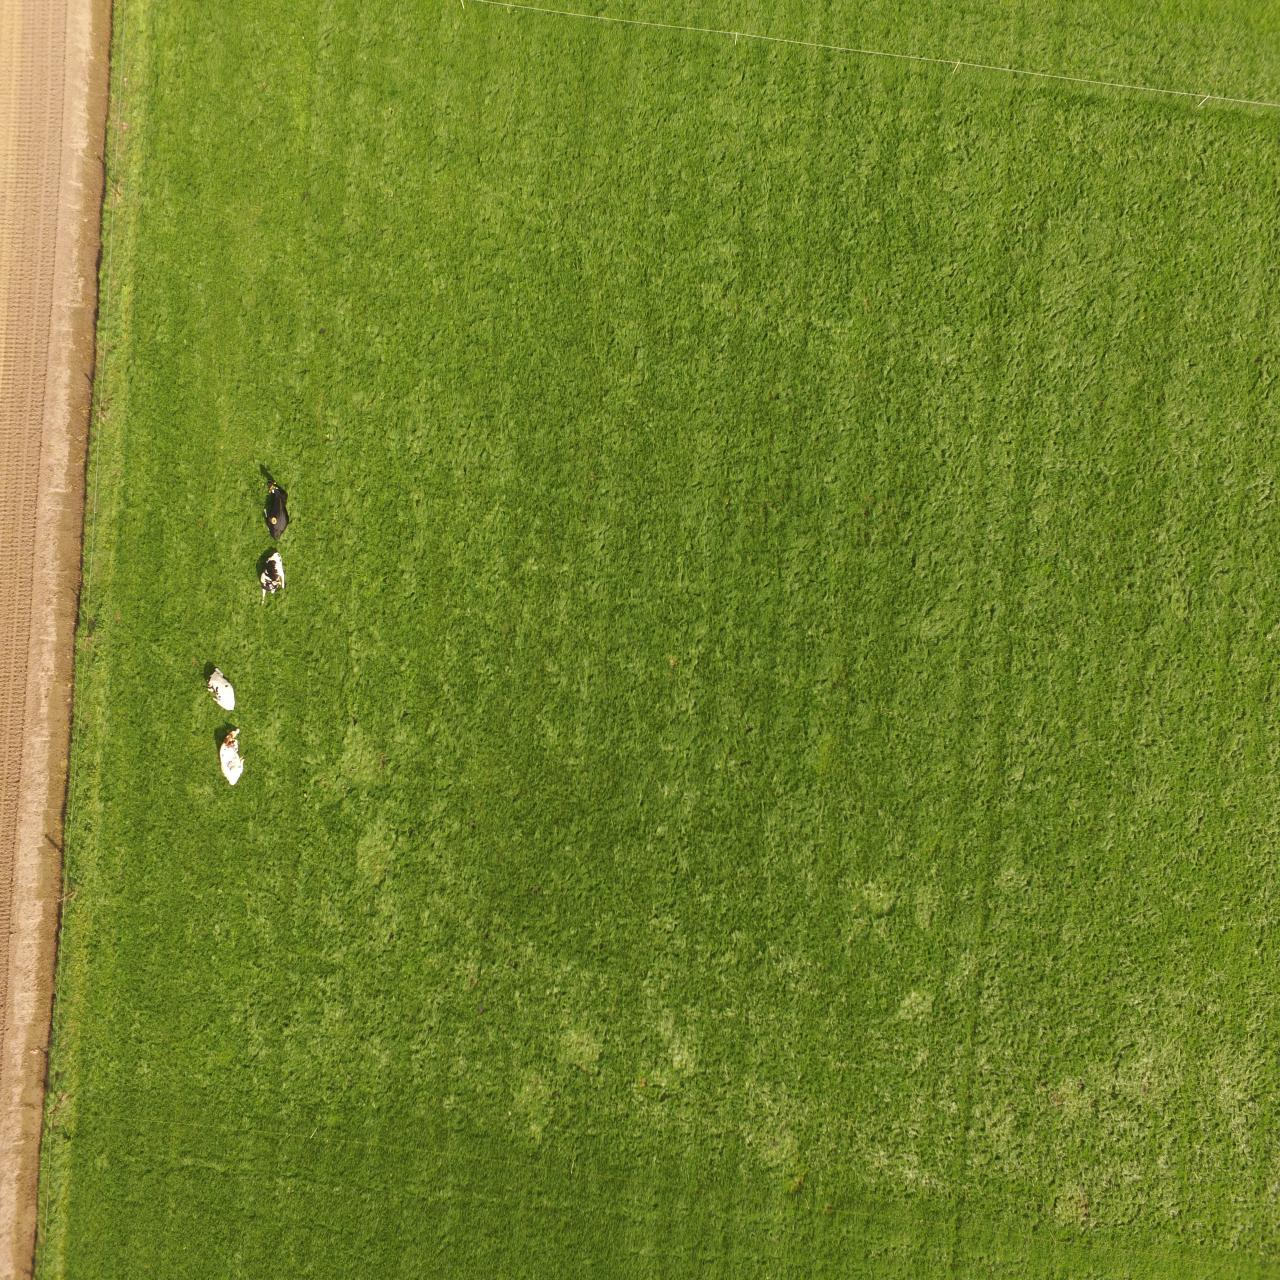cow: (264, 477, 291, 542), (218, 726, 246, 784), (258, 550, 286, 606), (203, 665, 236, 712)
